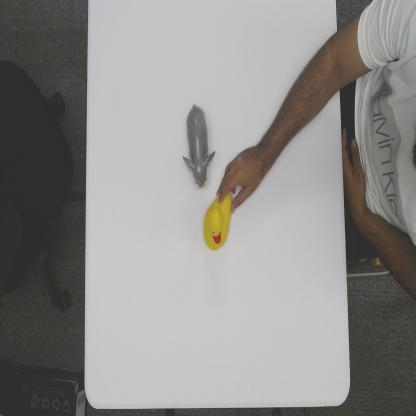Arm: (262, 36, 341, 169)
Duck: (202, 191, 232, 250)
Elephant: (183, 101, 215, 190)
Hand: (218, 146, 268, 208)
